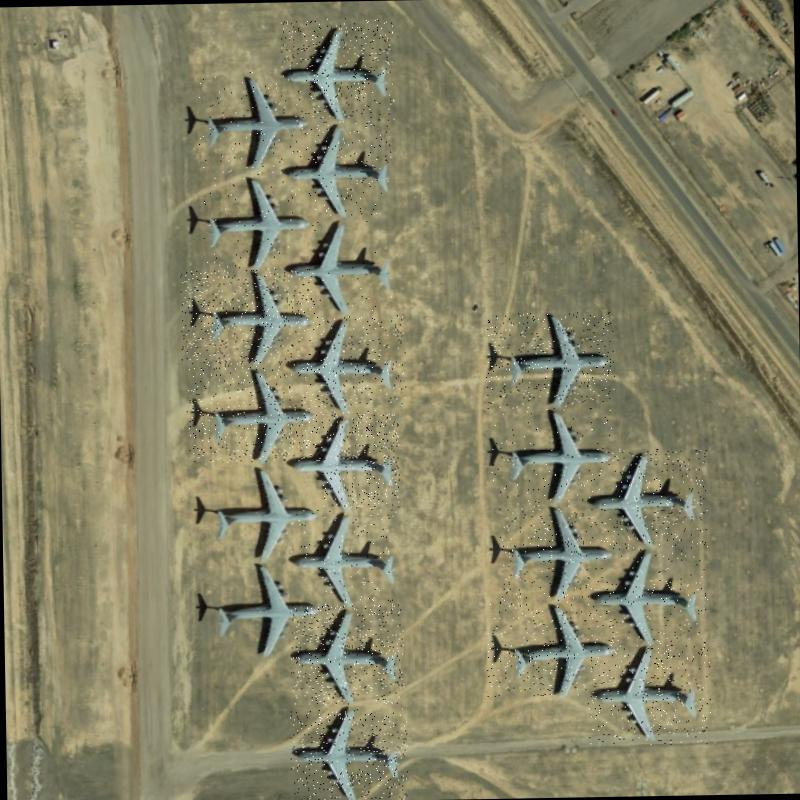A4: (180, 268, 316, 372), (185, 364, 321, 465), (198, 460, 324, 566), (490, 404, 613, 512), (586, 641, 711, 746), (279, 409, 400, 514), (484, 312, 616, 408), (588, 446, 708, 551), (485, 602, 618, 696), (271, 118, 395, 217), (280, 17, 394, 124), (588, 544, 709, 644), (202, 172, 319, 274), (498, 504, 616, 604), (197, 70, 309, 174), (290, 603, 404, 705), (204, 560, 320, 660), (284, 315, 407, 408), (282, 215, 394, 316), (289, 708, 408, 800), (288, 508, 394, 608)
